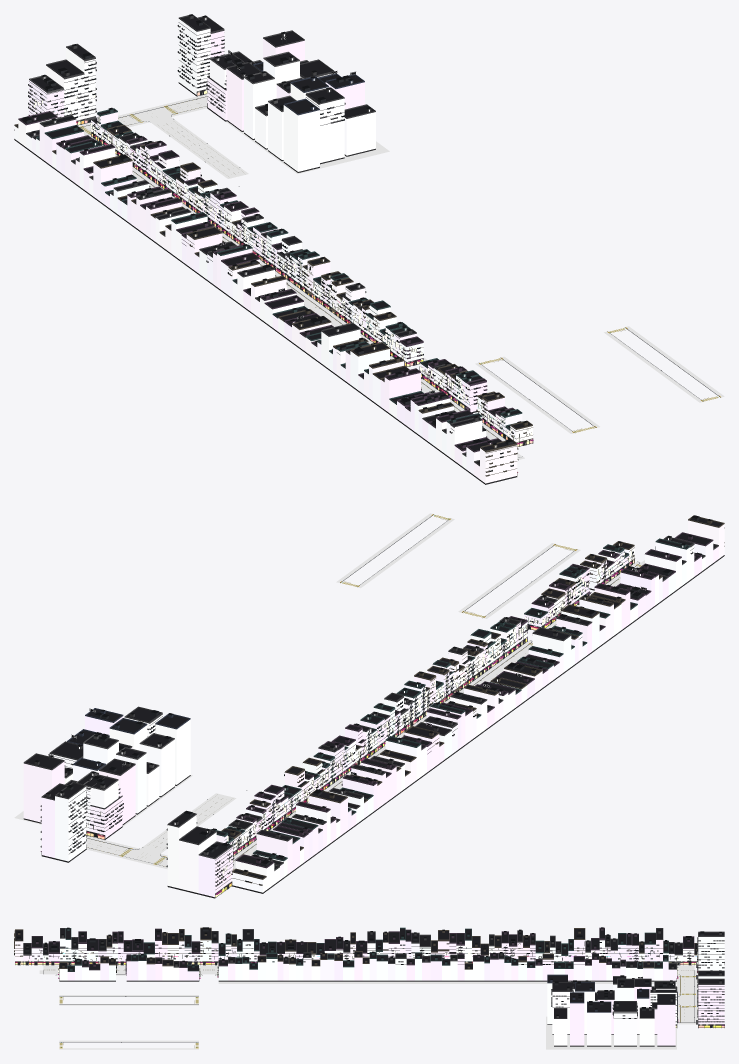
Rendered from world-high-west.glb.
The picture shows the model from 3 angles, top to bottom: view 1: azimuth 30°, elevation 25°; view 2: azimuth 150°, elevation 25°; view 3: azimuth 270°, elevation 25°; orthographic projection. The views are drawn at different scales.
Visible parts, largest first — view 1: japantown_facade, mega_facade, japantown_trim, japantown_roof, mega_roof, mega_trim, mega_asphalt, japantown_sign, deck_sidewalk, japantown_dark_detail, mega_trim_detail, japantown_trim_detail (+3 smaller); view 2: japantown_facade, mega_facade, japantown_trim, japantown_roof, mega_roof, mega_trim, mega_asphalt, japantown_sign, deck_sidewalk, japantown_dark_detail, japantown_metal_detail, japantown_board_frame (+6 smaller); view 3: japantown_facade, japantown_roof, japantown_trim, mega_facade, mega_roof, mega_trim, japantown_dark_detail, mega_sidewalk, deck_sidewalk, japantown_sidewalk, mega_asphalt, mega_trim_detail (+9 smaller).
Boxes of the visible parts, bbox=[...] form: japantown_facade: bbox=[14, 112, 532, 483]; mega_facade: bbox=[29, 19, 375, 171]; japantown_trim: bbox=[14, 108, 533, 484]; japantown_roof: bbox=[16, 110, 530, 464]; mega_roof: bbox=[31, 16, 373, 117]; mega_trim: bbox=[28, 15, 375, 172]; mega_asphalt: bbox=[81, 96, 248, 188]; japantown_sign: bbox=[91, 117, 532, 460]; deck_sidewalk: bbox=[421, 326, 724, 441]; japantown_dark_detail: bbox=[22, 107, 527, 445]; mega_trim_detail: bbox=[28, 22, 345, 125]; japantown_trim_detail: bbox=[14, 122, 526, 476]; japantown_facade: bbox=[216, 520, 724, 892]; mega_facade: bbox=[23, 715, 232, 897]; japantown_trim: bbox=[211, 515, 724, 893]; japantown_roof: bbox=[216, 518, 722, 878]; mega_roof: bbox=[25, 708, 231, 857]; mega_trim: bbox=[23, 706, 233, 898]; mega_asphalt: bbox=[86, 793, 256, 870]; japantown_sign: bbox=[227, 550, 634, 851]; deck_sidewalk: bbox=[336, 513, 638, 628]; japantown_dark_detail: bbox=[212, 515, 712, 871]; japantown_metal_detail: bbox=[226, 552, 692, 884]; japantown_board_frame: bbox=[225, 546, 655, 847]; japantown_facade: bbox=[15, 938, 697, 980]; japantown_roof: bbox=[15, 928, 697, 971]; japantown_trim: bbox=[14, 927, 697, 981]; mega_facade: bbox=[547, 937, 724, 1045]; mega_roof: bbox=[547, 932, 724, 1018]; mega_trim: bbox=[547, 931, 724, 1046]; japantown_dark_detail: bbox=[17, 927, 697, 968]; mega_sidewalk: bbox=[546, 965, 697, 1049]; deck_sidewalk: bbox=[55, 965, 202, 1049]; japantown_sidewalk: bbox=[39, 965, 680, 983]; mega_asphalt: bbox=[677, 966, 694, 1022]; mega_trim_detail: bbox=[551, 938, 724, 1022].
Size of the model in its own units: 257 by 61.54 by 803.
